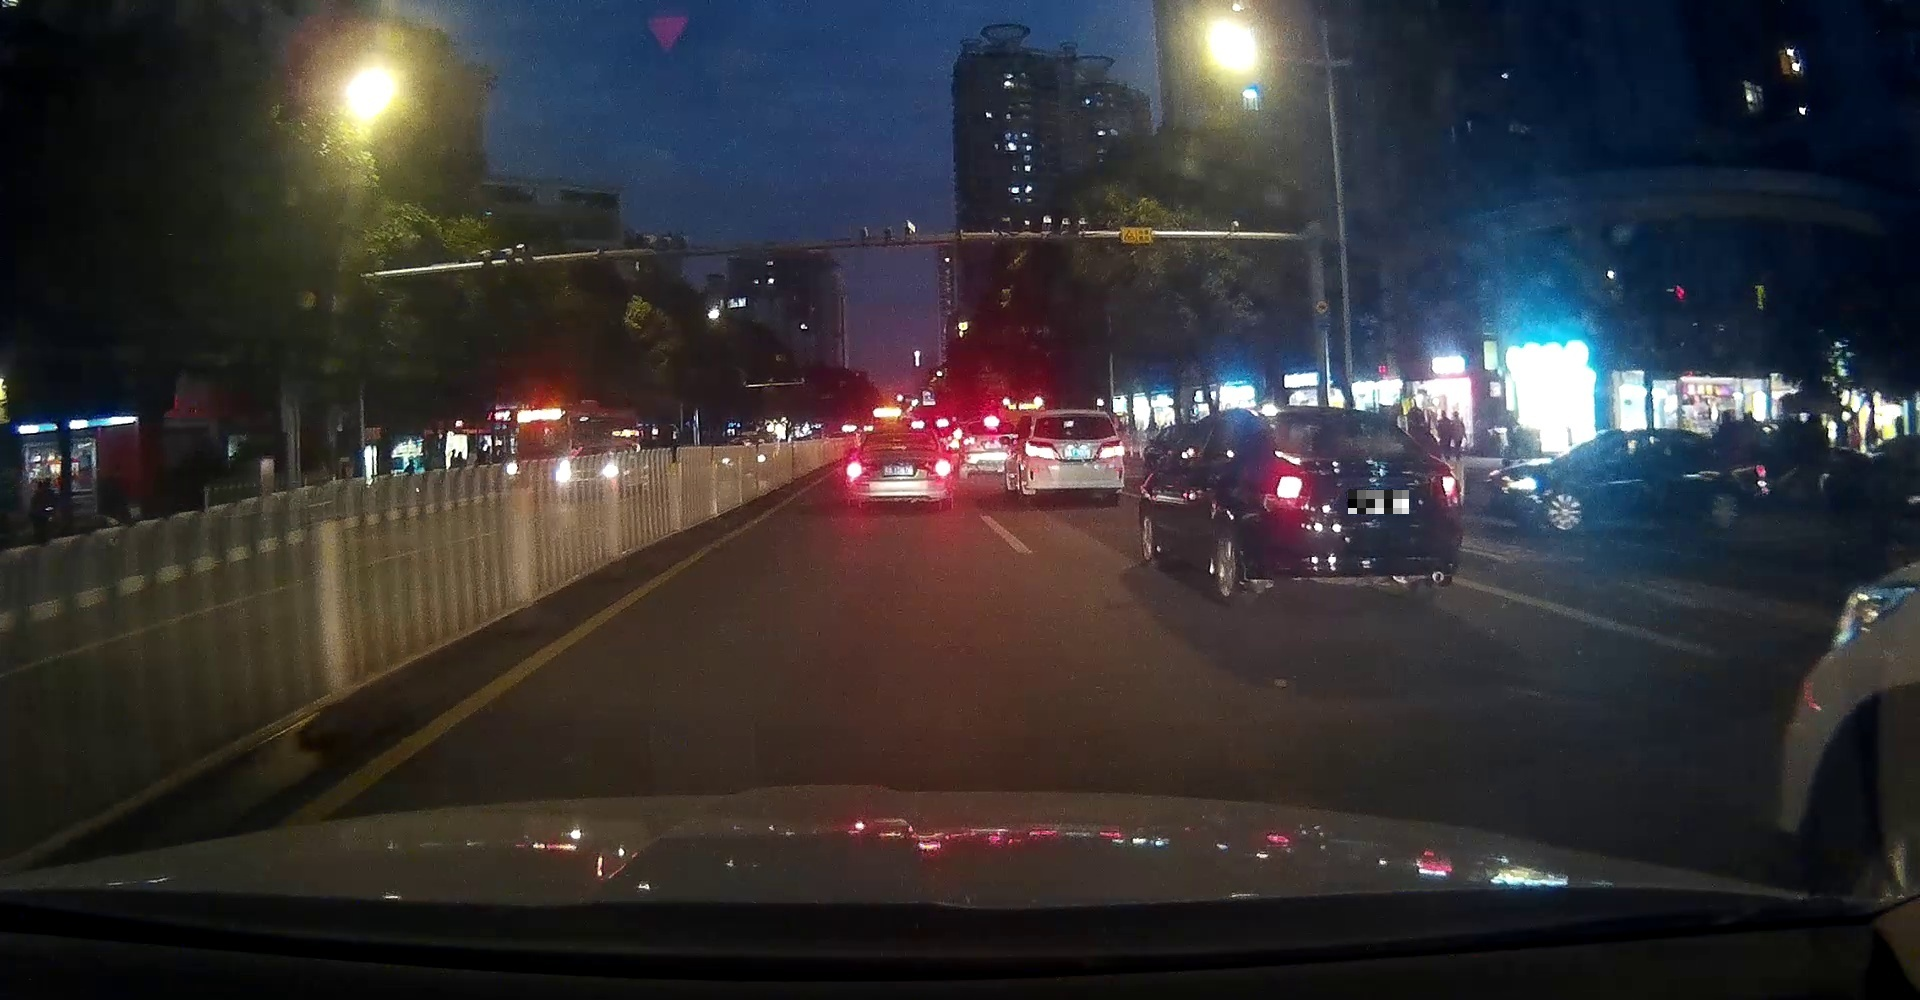L_light: (1274, 475, 1305, 499), (1025, 442, 1058, 459), (846, 461, 862, 477)
R_light: (1096, 442, 1123, 459), (1439, 475, 1457, 497), (935, 458, 951, 476)
T_light: (1331, 418, 1361, 423), (891, 434, 907, 439), (1065, 416, 1082, 419)
night-no: (1266, 409, 1463, 607), (1023, 410, 1123, 505), (846, 431, 952, 510)
plate_1: (1349, 490, 1410, 514)
